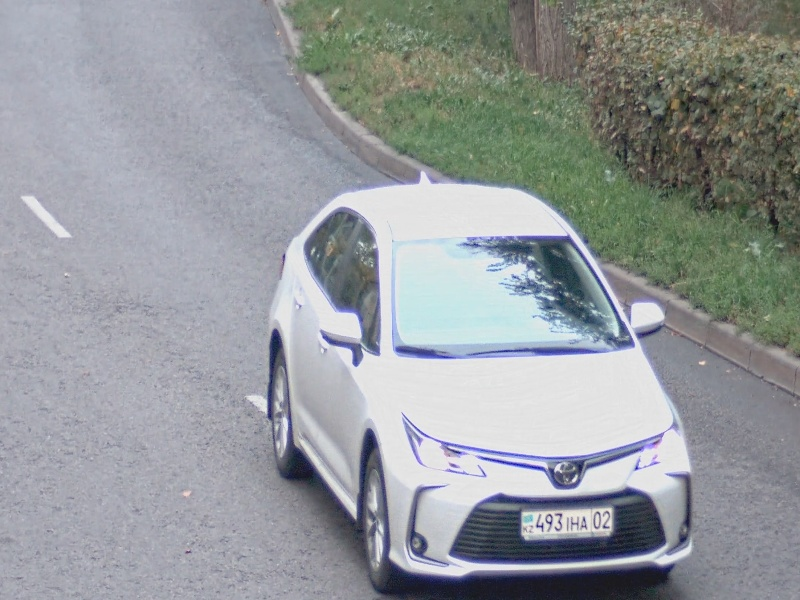plate: (519, 505, 615, 540)
